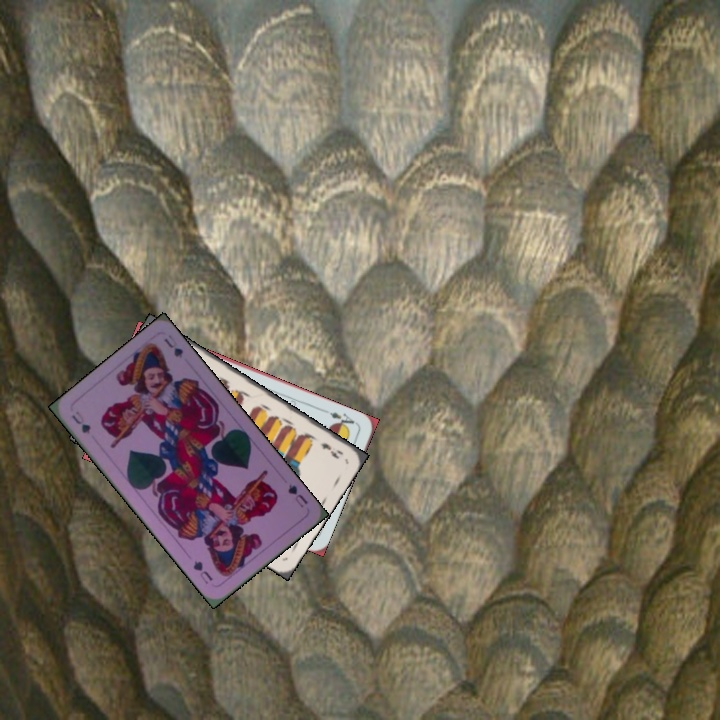E9: (316, 439, 346, 462)
EA: (326, 408, 360, 432)
GU: (284, 480, 311, 510), (68, 407, 93, 436)
